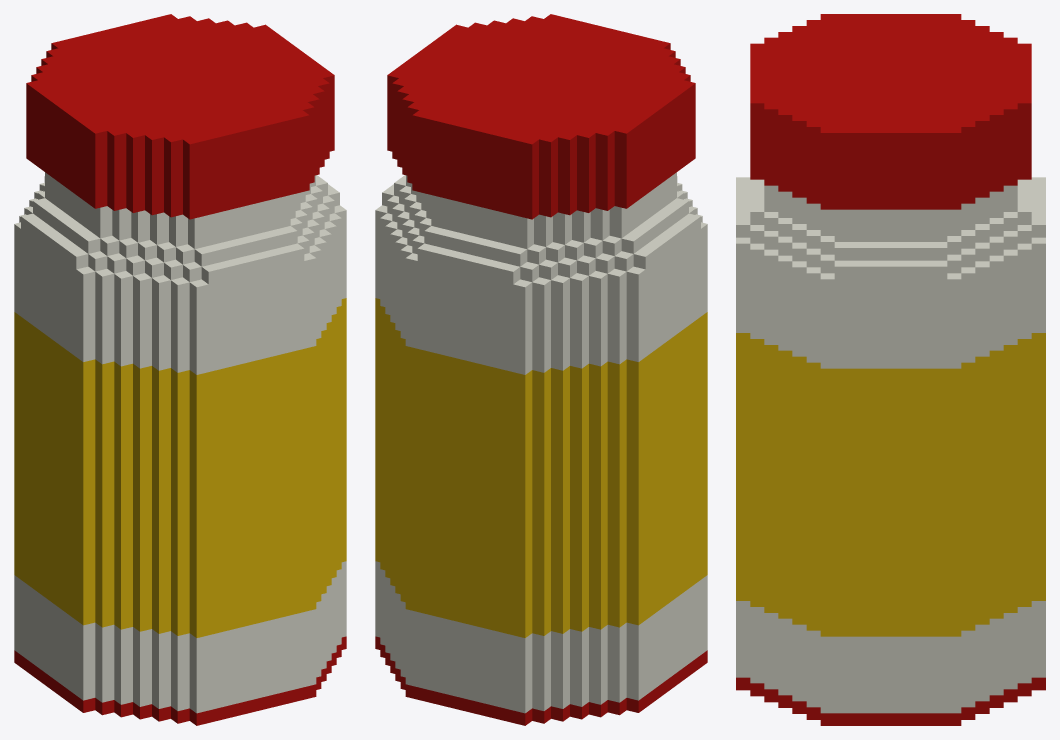
File: acetaminophen.glb
3 renders of one model, left to right at view 1: azimuth 30°, elevation 25°; view 2: azimuth 150°, elevation 25°; view 3: azimuth 270°, elevation 25°, orthographic.
Visible parts, largest first — view 1: acetaminophen:vessel; view 2: acetaminophen:vessel; view 3: acetaminophen:vessel.
Boxes of the visible parts, <box> form: acetaminophen:vessel: <box>14,14,346,725</box>; acetaminophen:vessel: <box>375,14,707,725</box>; acetaminophen:vessel: <box>736,14,1045,725</box>.
Size of the model in its own units: 0.044 by 0.092 by 0.044.
